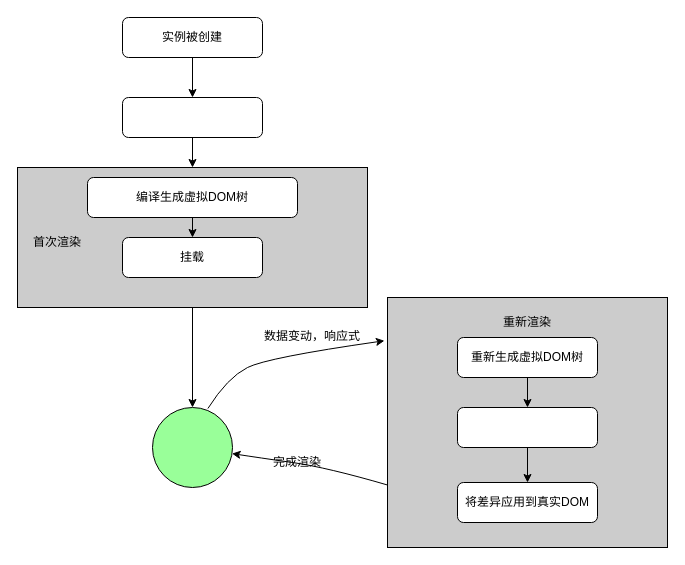
Image size: 685x565. Some labels were removed from this diagram. Each missing label, with the centre of its shape:
对比新旧两树的差异: (x=527, y=427)
已挂载: (x=192, y=447)
注入: (x=192, y=117)
